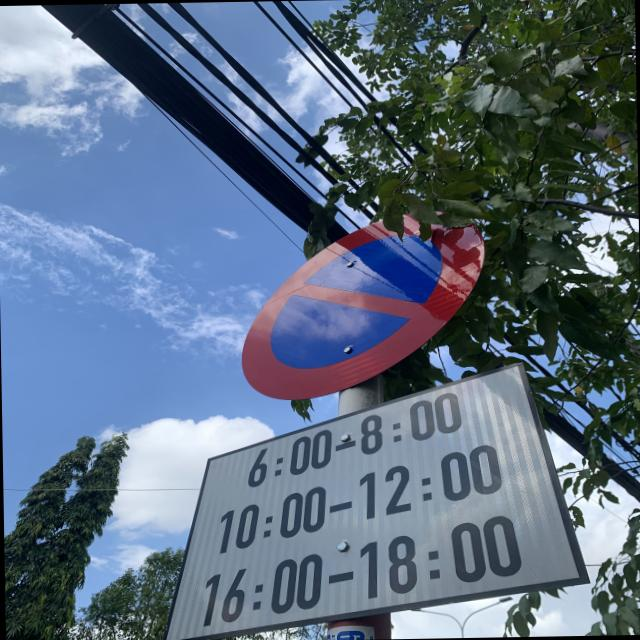Cam_Dau_Xe: (236, 208, 489, 400)
